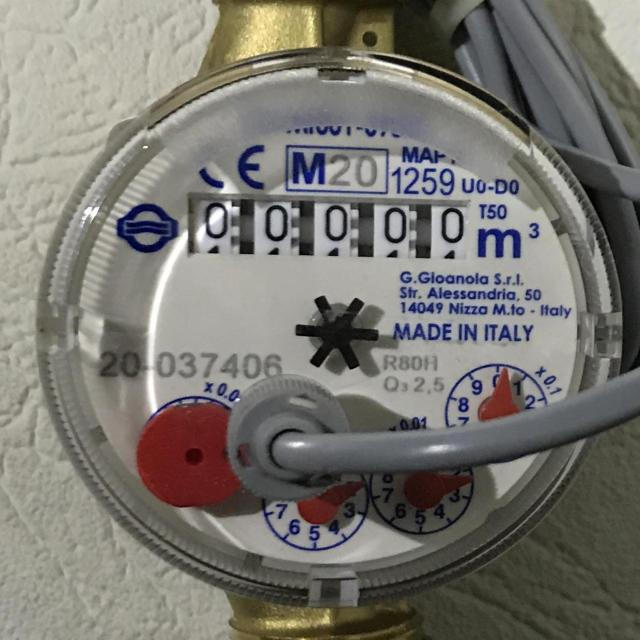gaz_meter: (46, 47, 616, 601)
indication: (187, 191, 468, 258)
